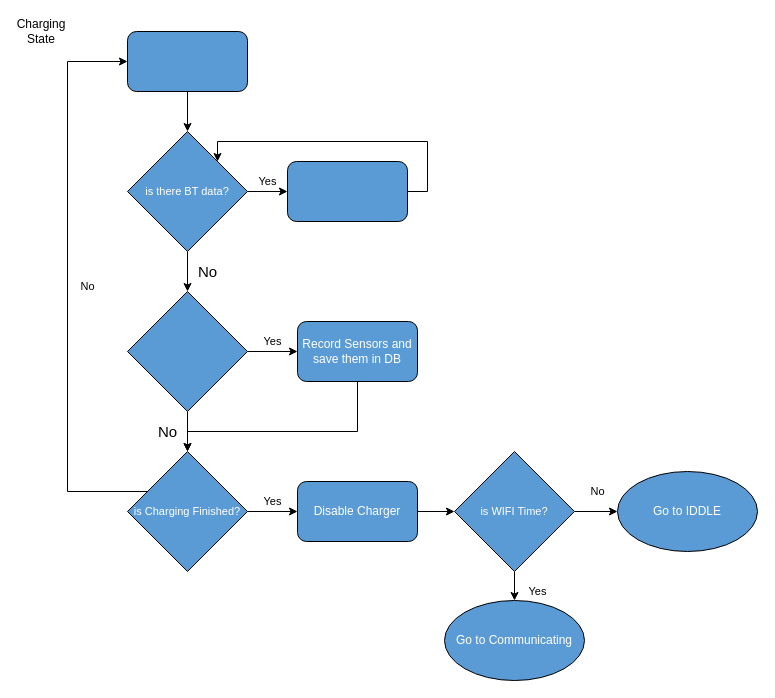
This 775x698 diagram has some shape labels left out. Here are the shapes that lost their labels. From the top down, the box of each, then its label:
(126, 30, 248, 92): Enable Charger
(286, 160, 408, 222): Receive Data
(126, 290, 248, 412): Its sensing Time?
